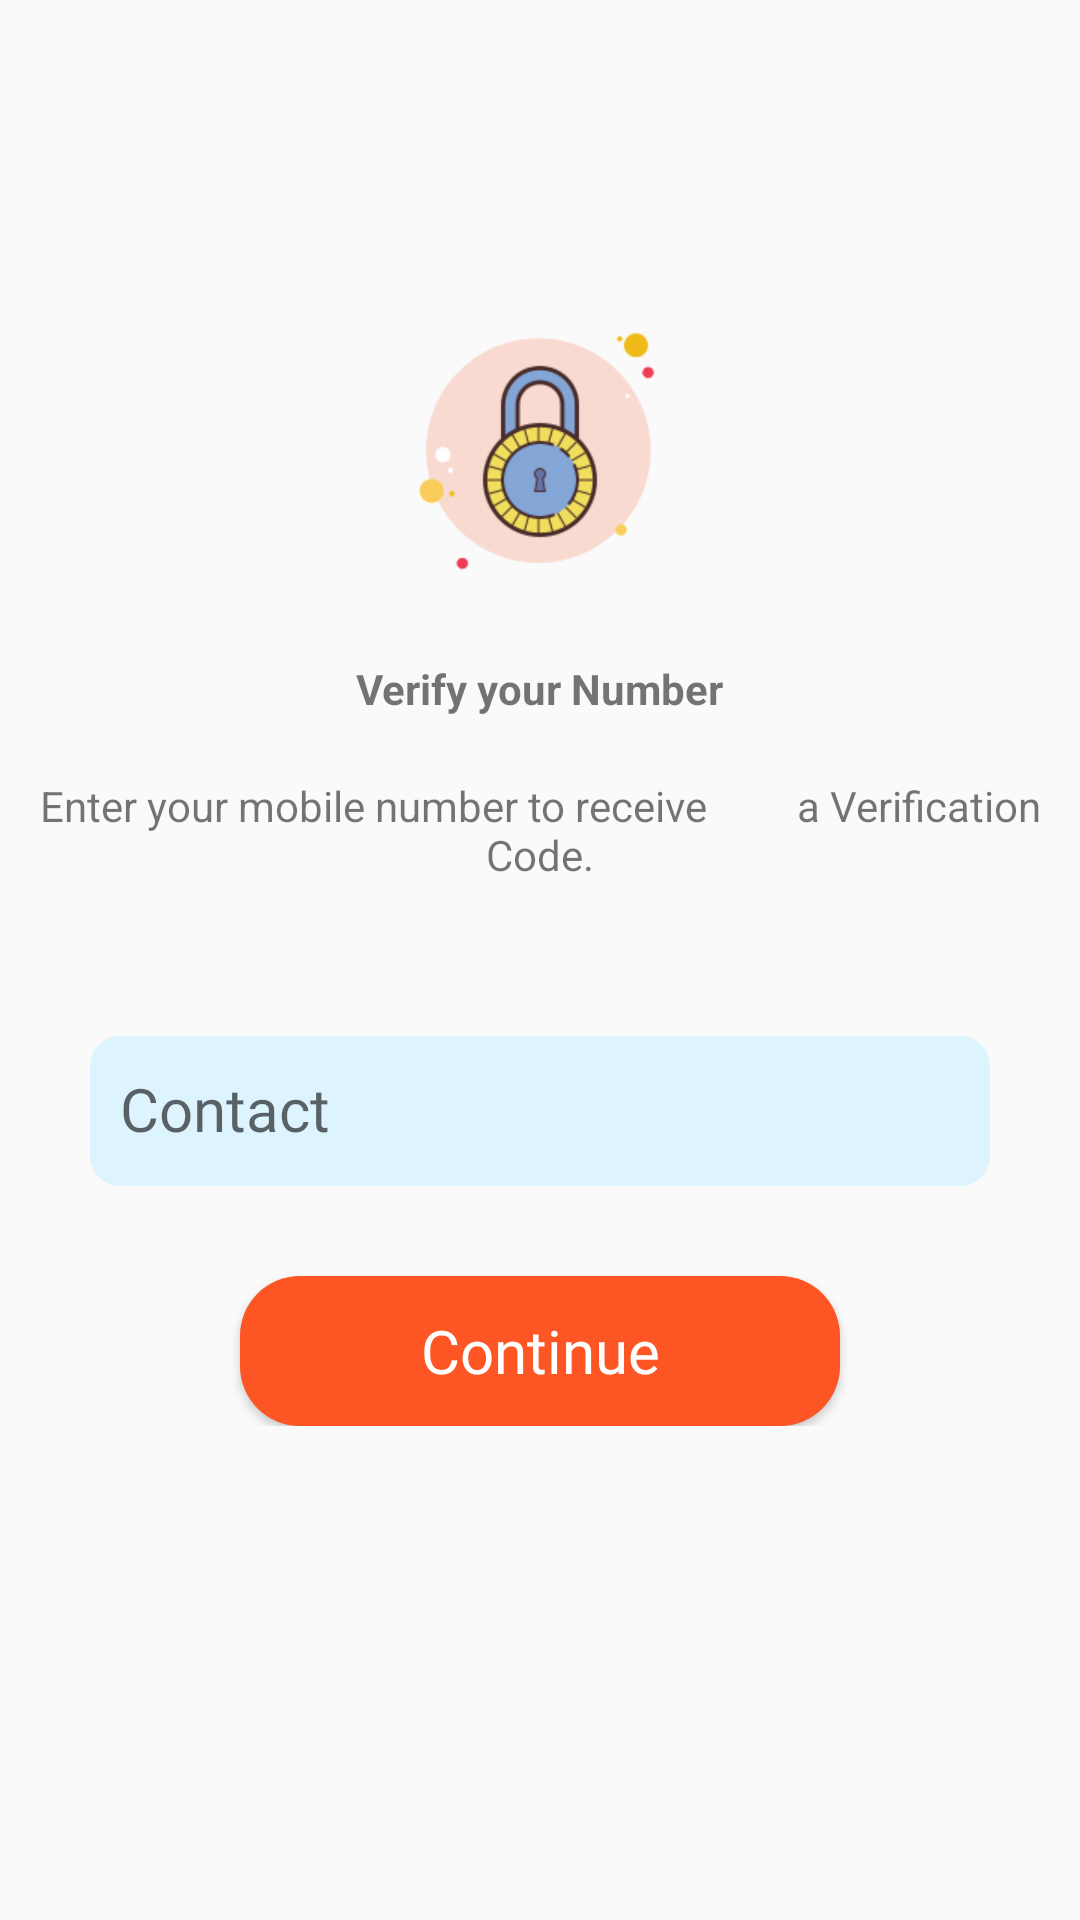

Screen size 1080px×1920px. Icon name, then its box in pixels as bbox=(x1, y1, x2, y2):
lock: bbox=(419, 332, 655, 570)
